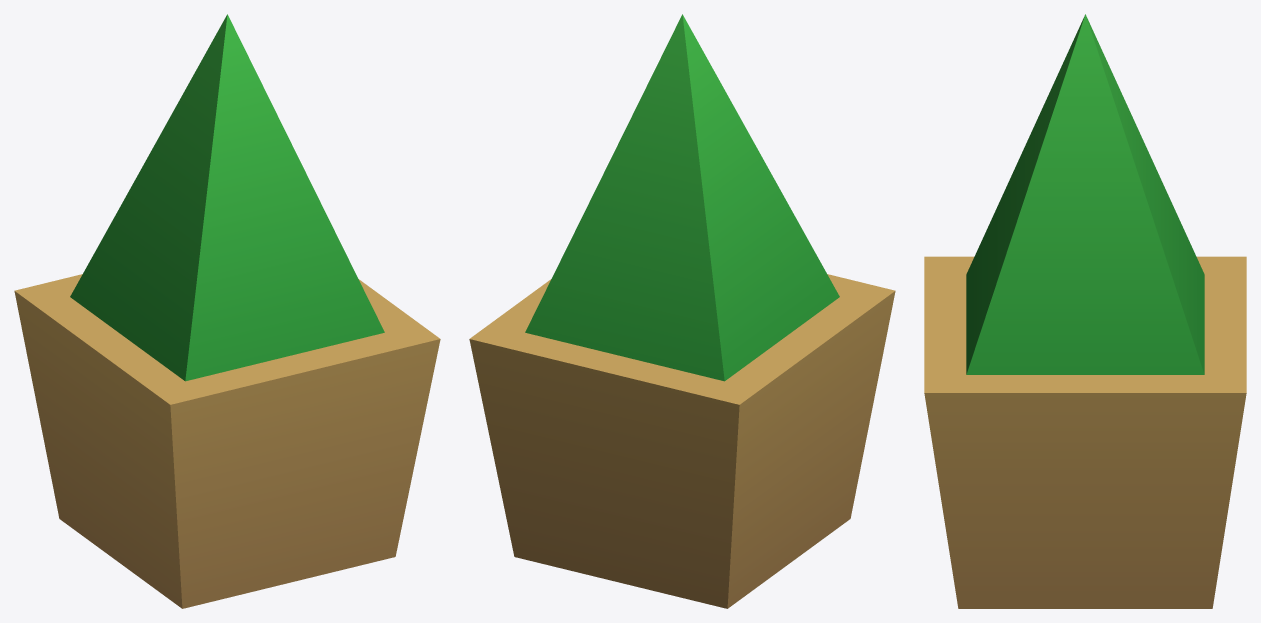
The model's file is Plant_1.fbx.
3 renders of one model, left to right at view 1: azimuth 30°, elevation 25°; view 2: azimuth 150°, elevation 25°; view 3: azimuth 270°, elevation 25°, orthographic. The views are drawn at different scales.
Visible parts, largest first — view 1: Plant_1; view 2: Plant_1; view 3: Plant_1.
Boxes of the visible parts, x1,y1,x2,y2 form: Plant_1: [14, 14, 440, 608]; Plant_1: [469, 14, 895, 608]; Plant_1: [924, 14, 1246, 608].
Size of the model in its own units: 132 by 245 by 132.
